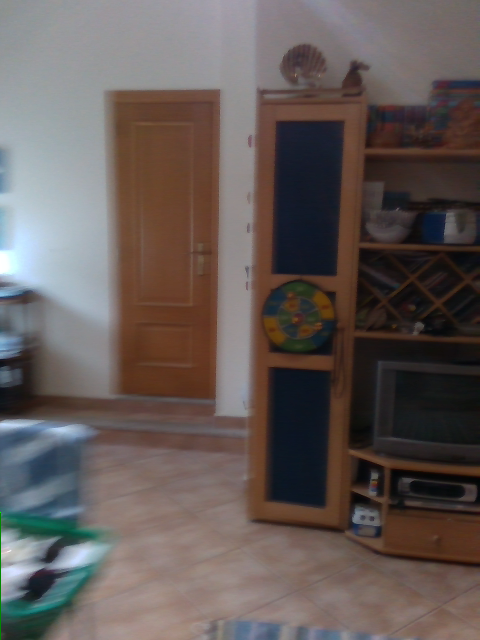closed: (110, 88, 223, 398)
